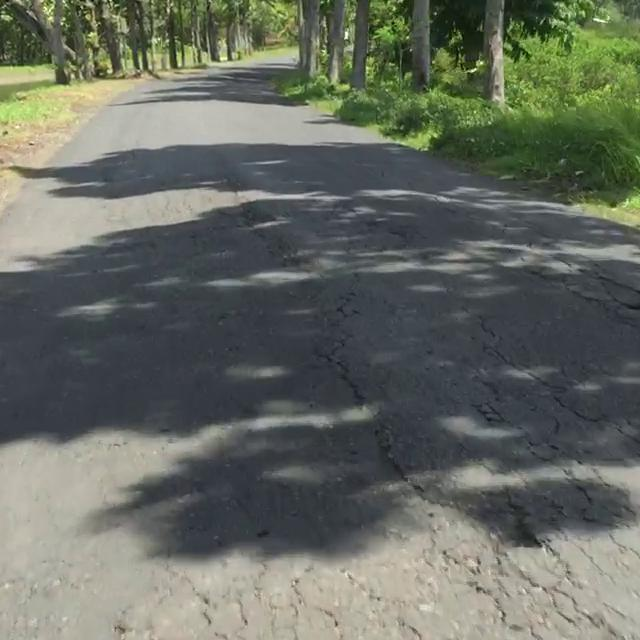retak_kulit_buaya: (445, 331, 640, 484)
